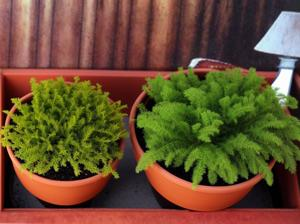pottedplant: (1, 67, 300, 211)
